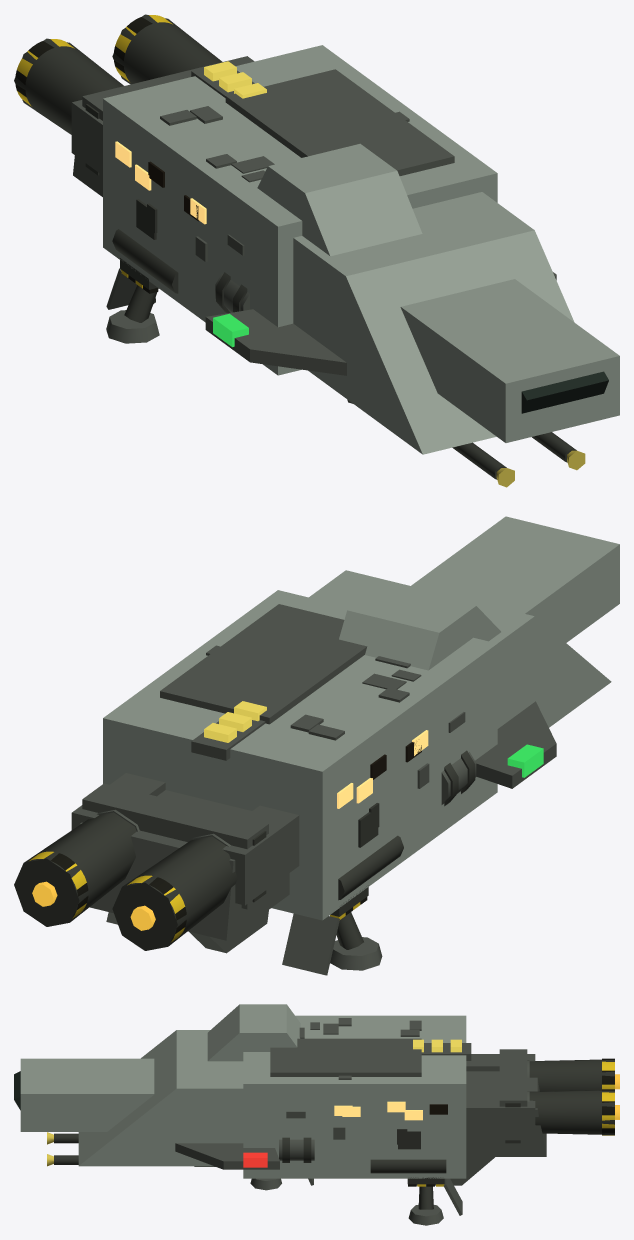
File: courier-m(1).glb
3 renders of one model, top to bottom at view 1: azimuth 30°, elevation 25°; view 2: azimuth 150°, elevation 25°; view 3: azimuth 270°, elevation 25°, orthographic. The views are drawn at different scales.
Parts seen in each view (by area): view 1: hullMain, hullForebody, hullNose, accentStripe, canopyFairing, engineHousing (×2), canardLeft, cockpitGlass, tailBoom0, courierShipServicePipeL, engineBayExtension, gearFoot (+4 smaller); view 2: hullMain, engineHousing (×2), hullNose, accentStripe, hullForebody, canopyFairing, engineBayExtension, hullTailWedge, tailBoom0, canardLeft, gearBayDoor, courierShipServicePipeL (+7 smaller); view 3: hullMain, hullForebody, hullNose, accentStripe, engineHousing (×2), canopyFairing, tailBoom1, hullTailWedge, canardRight, engineBayExtension, courierShipServicePipeR, gearFoot (×2) (+8 smaller).
Boxes of the visible parts, left/top/right/bottom form: hullMain: left=103, top=45, right=497, bottom=375; hullForebody: left=293, top=192, right=574, bottom=454; hullNose: left=400, top=279, right=619, bottom=442; accentStripe: left=225, top=69, right=454, bottom=175; canopyFairing: left=257, top=143, right=422, bottom=256; engineHousing (×2): left=14, top=14, right=222, bottom=134; canardLeft: left=205, top=309, right=346, bottom=375; cockpitGlass: left=521, top=371, right=608, bottom=413; tailBoom0: left=71, top=100, right=102, bottom=175; courierShipServicePipeL: left=112, top=229, right=178, bottom=293; engineBayExtension: left=82, top=56, right=254, bottom=180; gearFoot: left=106, top=310, right=159, bottom=343; hullMain: left=103, top=590, right=497, bottom=920; engineHousing (×2): left=14, top=812, right=237, bottom=950; hullNose: left=411, top=516, right=619, bottom=642; accentStripe: left=160, top=604, right=367, bottom=724; hullForebody: left=309, top=570, right=611, bottom=728; canopyFairing: left=339, top=583, right=500, bottom=670; engineBayExtension: left=82, top=783, right=268, bottom=909; hullTailWedge: left=79, top=790, right=289, bottom=940; tailBoom0: left=222, top=805, right=299, bottom=905; canardLeft: left=475, top=701, right=556, bottom=788; gearBayDoor: left=282, top=913, right=339, bottom=975; courierShipServicePipeL: left=338, top=835, right=403, bottom=900; hullMain: left=243, top=1015, right=466, bottom=1178; hullForebody: left=78, top=1030, right=243, bottom=1166; hullNose: left=20, top=1058, right=154, bottom=1131; accentStripe: left=270, top=1038, right=421, bottom=1076; engineHousing (×2): left=529, top=1059, right=614, bottom=1134; canopyFairing: left=207, top=1004, right=300, bottom=1061; tailBoom1: left=466, top=1095, right=535, bottom=1140; hullTailWedge: left=466, top=1071, right=546, bottom=1156; canardRight: left=175, top=1143, right=279, bottom=1169; engineBayExtension: left=499, top=1049, right=527, bottom=1144; courierShipServicePipeR: left=370, top=1159, right=446, bottom=1173; gearFoot (×2): left=250, top=1178, right=443, bottom=1225.
Bounding box in the file's own units: 1.49 × 1.1 × 3.94.
